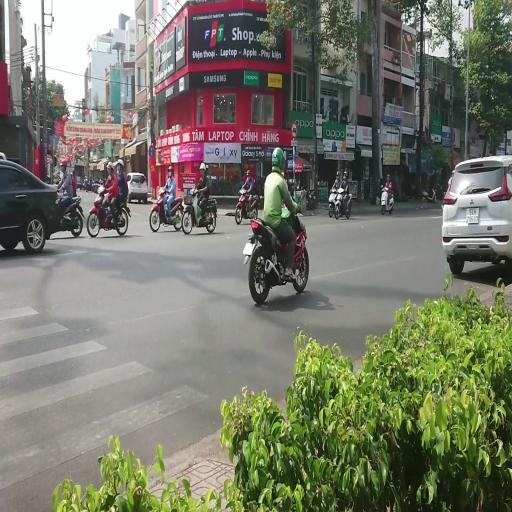bikes: (243, 200, 309, 304), (86, 185, 128, 237), (181, 188, 217, 234), (149, 186, 184, 232), (54, 188, 84, 236), (235, 187, 259, 224), (287, 180, 306, 214), (334, 187, 352, 219), (380, 184, 394, 215), (295, 186, 306, 214), (422, 187, 437, 204), (328, 188, 337, 216), (305, 188, 316, 208), (92, 177, 105, 193), (82, 177, 90, 191)
helmet: (271, 148, 285, 172), (116, 159, 124, 168), (106, 162, 114, 171), (199, 162, 206, 170), (98, 186, 104, 194), (60, 160, 67, 166), (168, 166, 173, 174), (159, 187, 164, 195), (294, 151, 299, 158), (246, 170, 250, 177), (343, 172, 347, 178), (380, 184, 384, 190), (84, 176, 88, 182), (387, 174, 390, 181), (336, 172, 340, 177), (72, 170, 76, 175), (389, 182, 392, 188), (70, 170, 73, 176)
